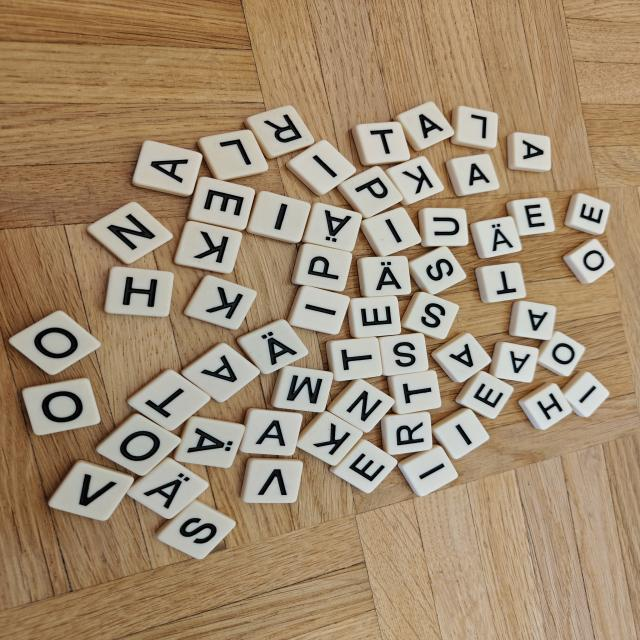a: (181, 343, 260, 402), (132, 141, 202, 196), (239, 408, 302, 455), (431, 333, 491, 382), (394, 102, 454, 151), (446, 154, 500, 196), (508, 300, 556, 341), (489, 342, 538, 382), (507, 132, 551, 172)
a_dot: (127, 458, 209, 518), (238, 320, 308, 374), (174, 416, 245, 468), (302, 202, 362, 252), (470, 216, 522, 259), (357, 256, 411, 297)
e: (330, 440, 397, 493), (188, 177, 255, 230), (455, 371, 513, 419), (348, 296, 401, 338), (564, 193, 610, 234), (506, 197, 554, 236)
h: (105, 267, 174, 317), (518, 383, 571, 430)
i: (286, 140, 356, 195), (246, 191, 310, 243), (288, 286, 350, 335), (398, 445, 457, 496), (361, 208, 421, 256), (433, 409, 489, 459), (562, 371, 609, 417)
k: (184, 276, 256, 330), (174, 221, 242, 273), (298, 411, 363, 465), (385, 157, 444, 205)
l: (198, 130, 268, 180), (451, 106, 498, 150)
m: (271, 365, 333, 413)
n: (88, 202, 172, 264), (328, 379, 394, 432)
o: (9, 311, 100, 374), (96, 413, 180, 475), (22, 378, 100, 435), (563, 239, 614, 284), (537, 331, 585, 376)
p: (338, 166, 402, 218), (291, 243, 352, 292)
r: (245, 105, 314, 158), (381, 411, 432, 455)
s: (156, 500, 236, 559), (409, 246, 466, 295), (401, 292, 459, 340), (378, 333, 428, 376)
t: (128, 369, 211, 431), (352, 122, 410, 166), (327, 337, 382, 381), (388, 370, 441, 414), (475, 262, 526, 303)
u: (418, 208, 468, 247)
v: (48, 460, 134, 521), (241, 458, 303, 503)
